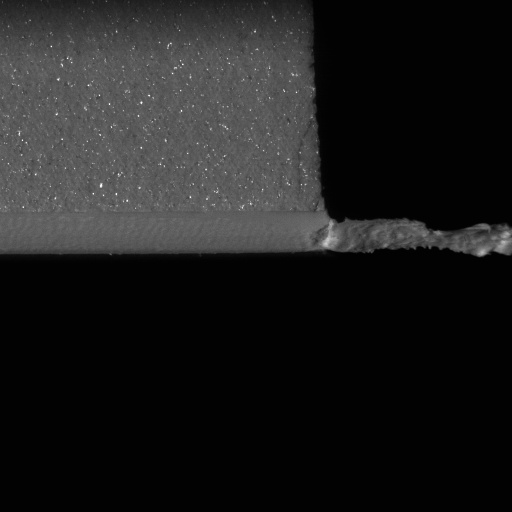changdai: (317, 207, 511, 259)
